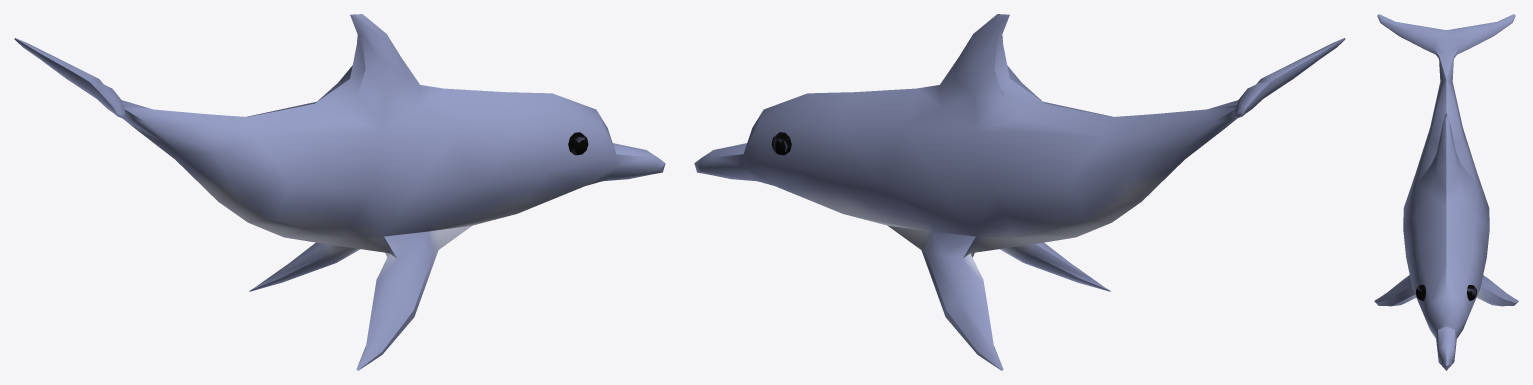
Rendered from dolphin.glb.
The picture shows the model from 3 angles, left to right: view 1: azimuth 30°, elevation 25°; view 2: azimuth 150°, elevation 25°; view 3: azimuth 270°, elevation 25°; orthographic projection. The views are drawn at different scales.
Parts seen in each view (by area): view 1: pSphere2; view 2: pSphere2; view 3: pSphere2.
Part boxes in pixels (x1=…): pSphere2: x1=14, y1=14, x2=665, y2=370; pSphere2: x1=694, y1=14, x2=1345, y2=370; pSphere2: x1=1374, y1=14, x2=1518, y2=370.
Bounding box in the file's own units: 1462 × 731 × 456.
Materials: 1 (1 with a texture image).
